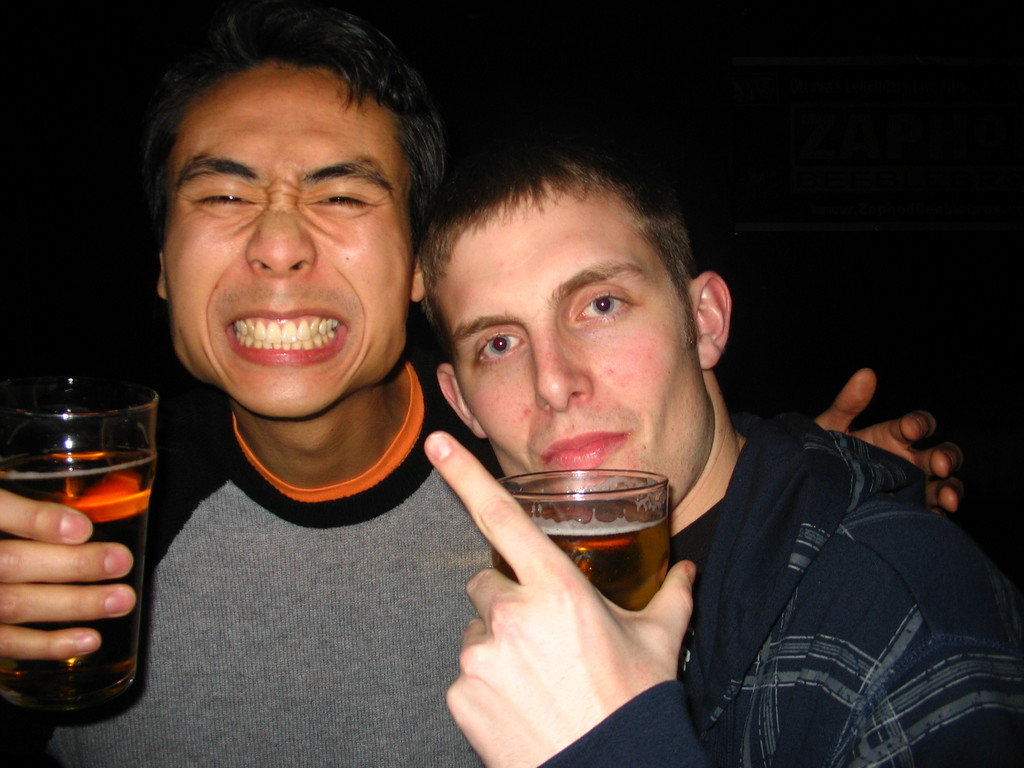Beer: (2, 449, 141, 715), (486, 510, 677, 616)
